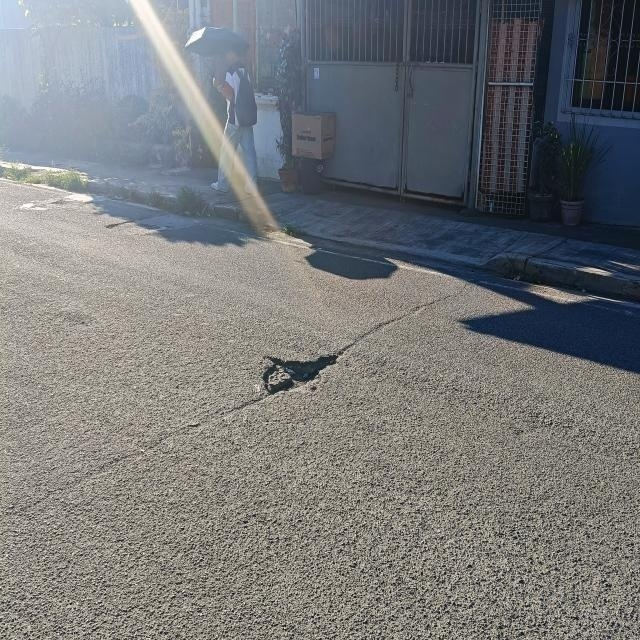pothole: (244, 318, 362, 430)
